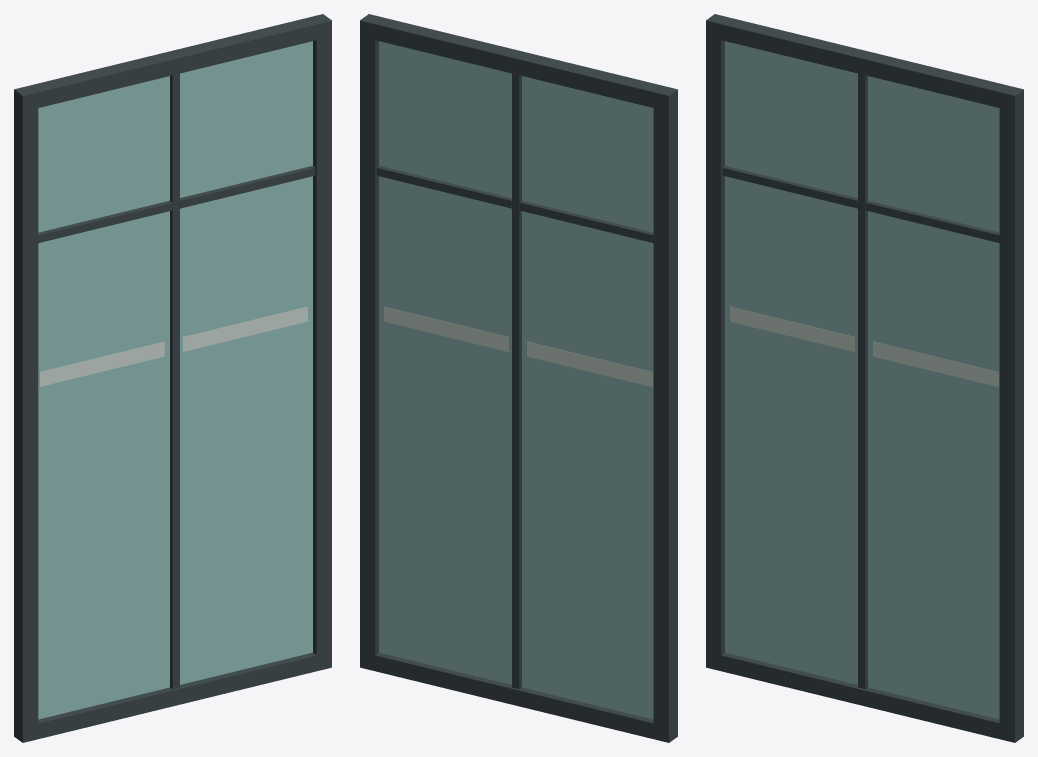
File: mall-glass-partition.glb
3 views of the same model, side by side, from view 1: azimuth 30°, elevation 25°; view 2: azimuth 150°, elevation 25°; view 3: azimuth 330°, elevation 25° (orthographic).
Visible parts, largest first — view 1: GLASS_Right_Lower, GLASS_Left_Lower, GLASS_Right_Upper, GLASS_Left_Upper, POST_Left, POST_Right, FRAME_CeilingTrack, MULLION_Centre, FRAME_FloorTrack, BAND_Left_Front, BAND_Right_Front, TRANSOM_Right (+1 smaller); view 2: GLASS_Right_Lower, GLASS_Left_Lower, GLASS_Right_Upper, GLASS_Left_Upper, POST_Left, POST_Right, FRAME_CeilingTrack, MULLION_Centre, FRAME_FloorTrack, BAND_Left_Back, BAND_Right_Back, TRANSOM_Right (+1 smaller); view 3: GLASS_Left_Lower, GLASS_Right_Lower, GLASS_Left_Upper, GLASS_Right_Upper, POST_Right, POST_Left, FRAME_CeilingTrack, MULLION_Centre, FRAME_FloorTrack, BAND_Right_Front, BAND_Left_Front, TRANSOM_Left (+1 smaller).
Part boxes in pixels (left/top/right/bottom): GLASS_Right_Lower: left=180, top=176, right=312, bottom=684; GLASS_Left_Lower: left=38, top=211, right=169, bottom=719; GLASS_Right_Upper: left=180, top=41, right=312, bottom=197; GLASS_Left_Upper: left=38, top=76, right=169, bottom=232; POST_Left: left=14, top=85, right=38, bottom=742; POST_Right: left=308, top=14, right=331, bottom=670; FRAME_CeilingTrack: left=30, top=18, right=316, bottom=107; MULLION_Centre: left=170, top=73, right=179, bottom=689; FRAME_FloorTrack: left=38, top=652, right=316, bottom=738; BAND_Left_Front: left=39, top=341, right=164, bottom=386; BAND_Right_Front: left=183, top=306, right=307, bottom=351; TRANSOM_Right: left=180, top=165, right=315, bottom=208; GLASS_Right_Lower: left=379, top=176, right=511, bottom=684; GLASS_Left_Lower: left=522, top=211, right=653, bottom=719; GLASS_Right_Upper: left=379, top=41, right=511, bottom=197; GLASS_Left_Upper: left=522, top=76, right=653, bottom=232; POST_Left: left=653, top=85, right=677, bottom=742; POST_Right: left=360, top=14, right=383, bottom=670; FRAME_CeilingTrack: left=375, top=18, right=661, bottom=107; MULLION_Centre: left=512, top=73, right=521, bottom=689; FRAME_FloorTrack: left=375, top=652, right=653, bottom=738; BAND_Left_Back: left=527, top=341, right=652, bottom=386; BAND_Right_Back: left=384, top=306, right=508, bottom=351; TRANSOM_Right: left=376, top=165, right=511, bottom=208; GLASS_Left_Lower: left=725, top=176, right=857, bottom=684; GLASS_Right_Lower: left=868, top=211, right=999, bottom=719; GLASS_Left_Upper: left=725, top=41, right=857, bottom=197; GLASS_Right_Upper: left=868, top=76, right=999, bottom=232; POST_Right: left=999, top=85, right=1023, bottom=742; POST_Left: left=706, top=14, right=729, bottom=670; FRAME_CeilingTrack: left=721, top=18, right=1007, bottom=107; MULLION_Centre: left=858, top=73, right=867, bottom=689; FRAME_FloorTrack: left=721, top=652, right=999, bottom=738; BAND_Right_Front: left=873, top=341, right=998, bottom=386; BAND_Left_Front: left=730, top=306, right=854, bottom=351; TRANSOM_Left: left=722, top=165, right=857, bottom=208.
Size of the model in its own units: 1.2 by 2.4 by 0.06.
